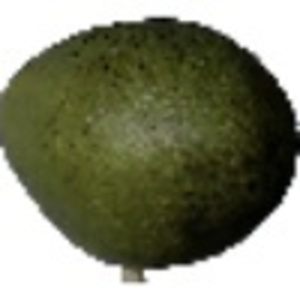abacate: (1, 8, 299, 270)
